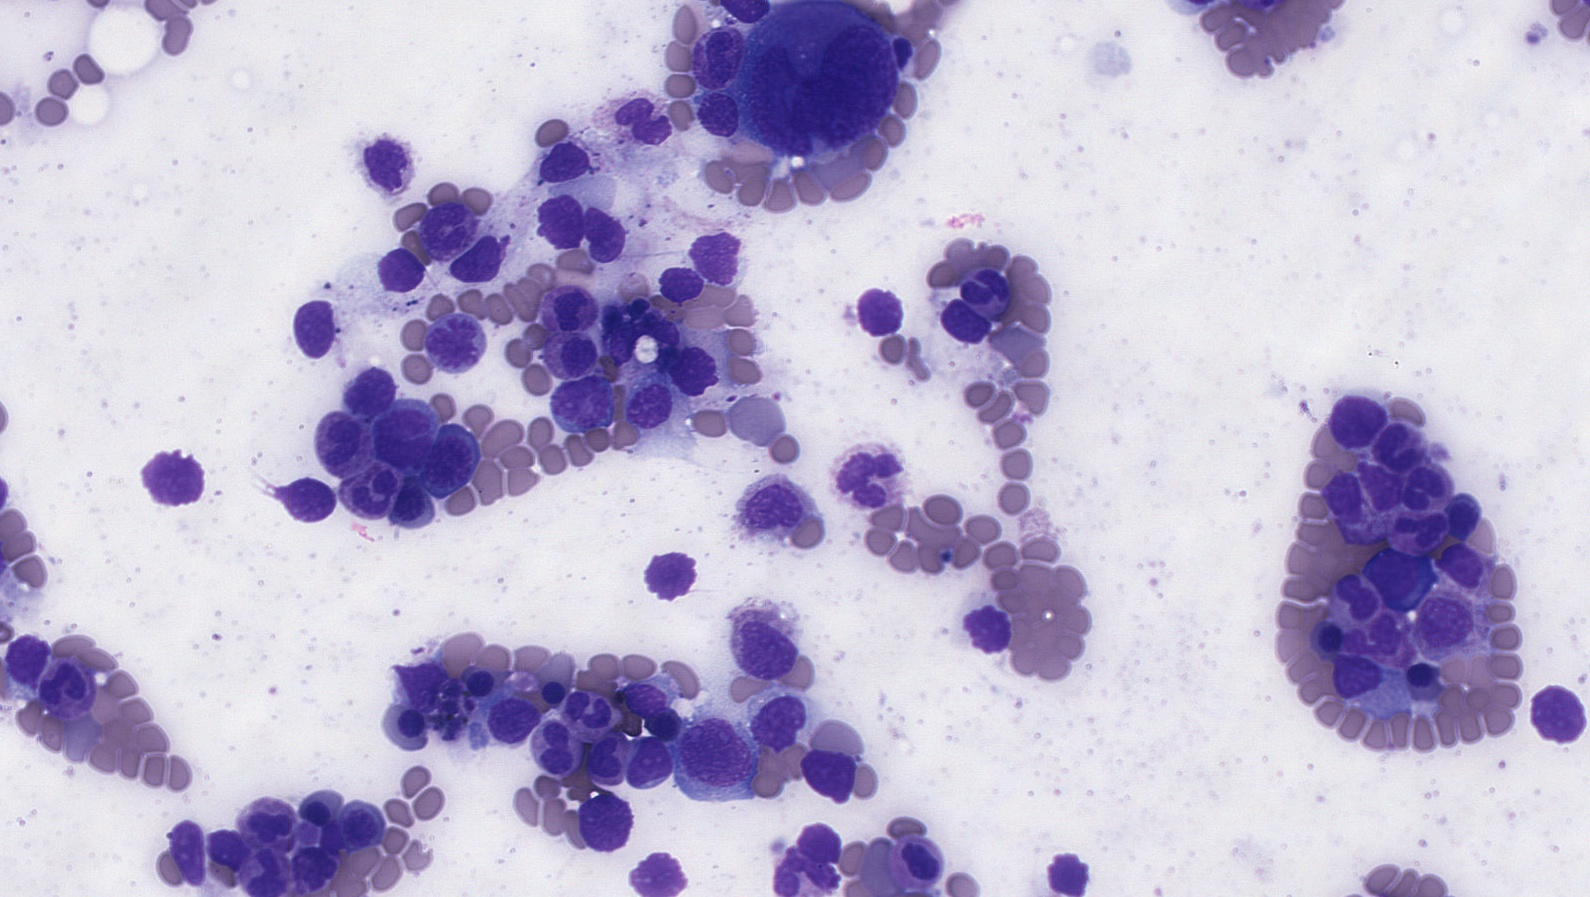objectness: (434, 318, 484, 368), (755, 694, 805, 744), (340, 472, 390, 522), (689, 29, 739, 80), (567, 693, 617, 743), (1363, 425, 1413, 475), (1402, 501, 1452, 552), (1361, 613, 1411, 663), (961, 268, 1011, 318), (895, 836, 946, 886), (240, 798, 290, 848), (543, 282, 593, 332), (1318, 469, 1368, 519), (1439, 539, 1490, 589), (532, 723, 582, 774), (579, 733, 629, 783), (558, 377, 608, 427), (625, 737, 675, 788), (1356, 459, 1407, 509), (642, 546, 692, 597), (580, 206, 630, 257), (456, 234, 507, 284), (655, 255, 705, 305), (151, 450, 201, 500), (850, 283, 900, 333), (1332, 392, 1383, 442), (627, 297, 677, 347), (794, 815, 844, 865), (583, 791, 633, 841), (1534, 687, 1585, 737), (612, 281, 662, 331), (878, 22, 928, 72), (632, 847, 683, 897), (282, 474, 332, 524), (673, 343, 723, 393), (964, 602, 1014, 652), (399, 656, 449, 706), (541, 135, 591, 186), (802, 741, 852, 791), (164, 825, 214, 875), (534, 194, 584, 245), (622, 674, 673, 724), (488, 694, 538, 744), (1305, 612, 1355, 662), (381, 698, 431, 748), (334, 800, 384, 850), (1397, 648, 1447, 698), (423, 439, 473, 489), (451, 657, 501, 707), (1439, 491, 1490, 541), (641, 698, 691, 748), (1366, 545, 1416, 595), (373, 410, 423, 460), (411, 204, 461, 253), (834, 449, 883, 499), (1393, 458, 1443, 508), (615, 86, 665, 135), (1330, 570, 1380, 619), (551, 330, 601, 380), (373, 243, 423, 293), (588, 288, 638, 338), (600, 316, 649, 366), (289, 304, 339, 354), (626, 381, 676, 430), (201, 821, 251, 870), (942, 294, 992, 344), (1, 632, 51, 681), (289, 839, 339, 889), (1040, 848, 1090, 897), (529, 665, 579, 715), (385, 479, 435, 529), (292, 783, 342, 833), (799, 68, 849, 118), (1417, 597, 1467, 646), (754, 477, 803, 527), (695, 231, 744, 280), (693, 88, 743, 138), (245, 854, 295, 897), (717, 0, 768, 29)
